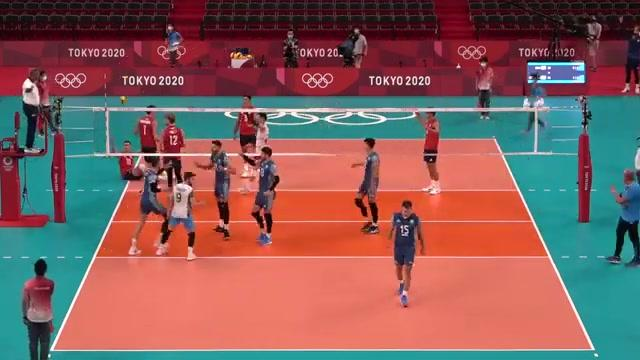ball: (118, 92, 129, 106)
